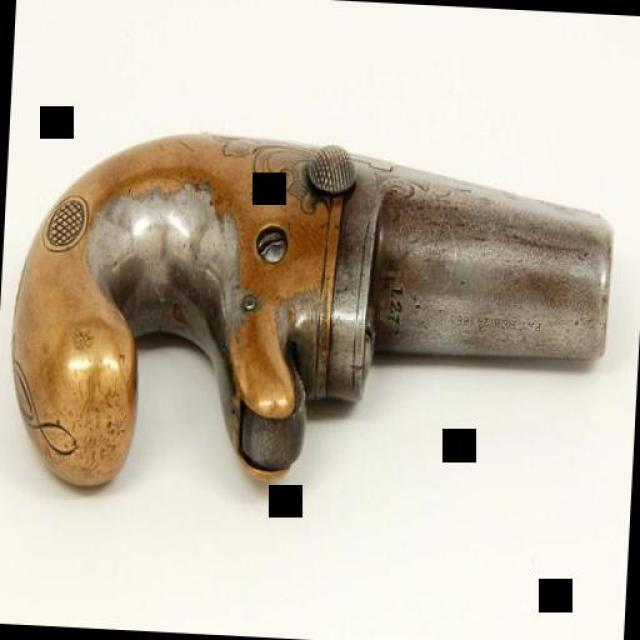gun: (0, 110, 621, 534)
